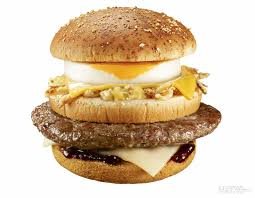hamburger: (32, 4, 222, 183)
